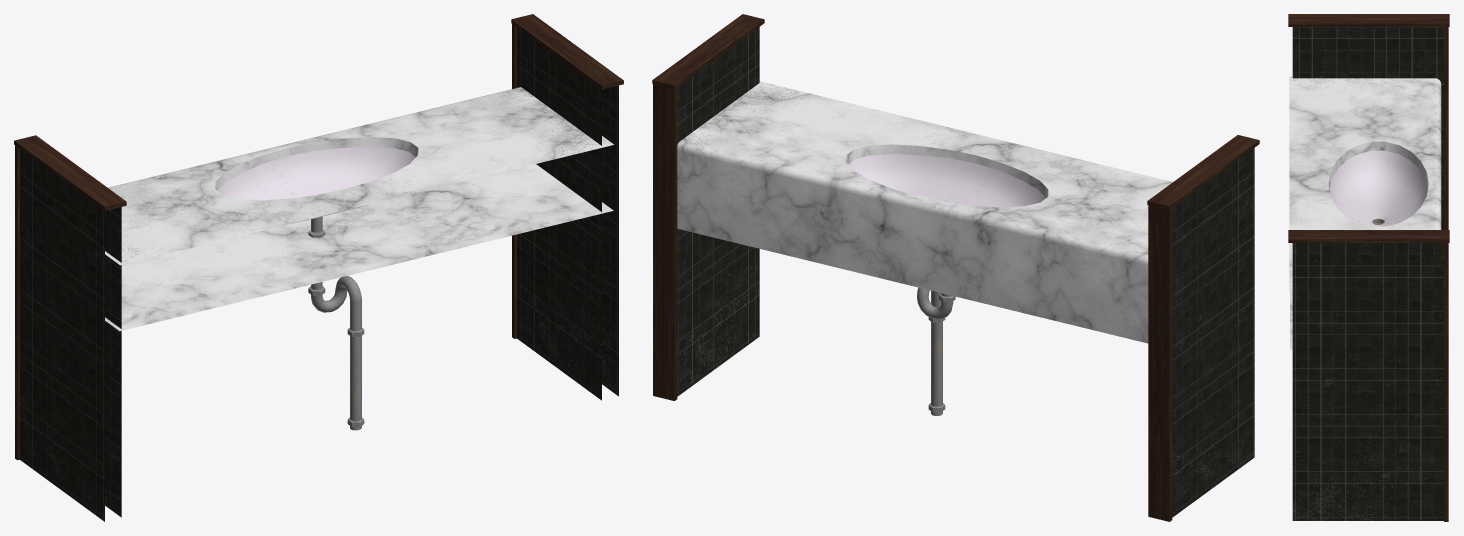
Rendered from washbasin.fbx.
The picture shows the model from 3 angles, left to right: view 1: azimuth 30°, elevation 25°; view 2: azimuth 150°, elevation 25°; view 3: azimuth 270°, elevation 25°; orthographic projection. The views are drawn at different scales.
Visible parts, largest first — view 1: washbasin; view 2: washbasin; view 3: washbasin.
Part boxes in pixels (box(x1,y1,x2,y2)): washbasin: box(14, 14, 623, 521); washbasin: box(652, 14, 1259, 521); washbasin: box(1288, 14, 1449, 521).
Size of the model in its own units: 193 by 113 by 58.38.
